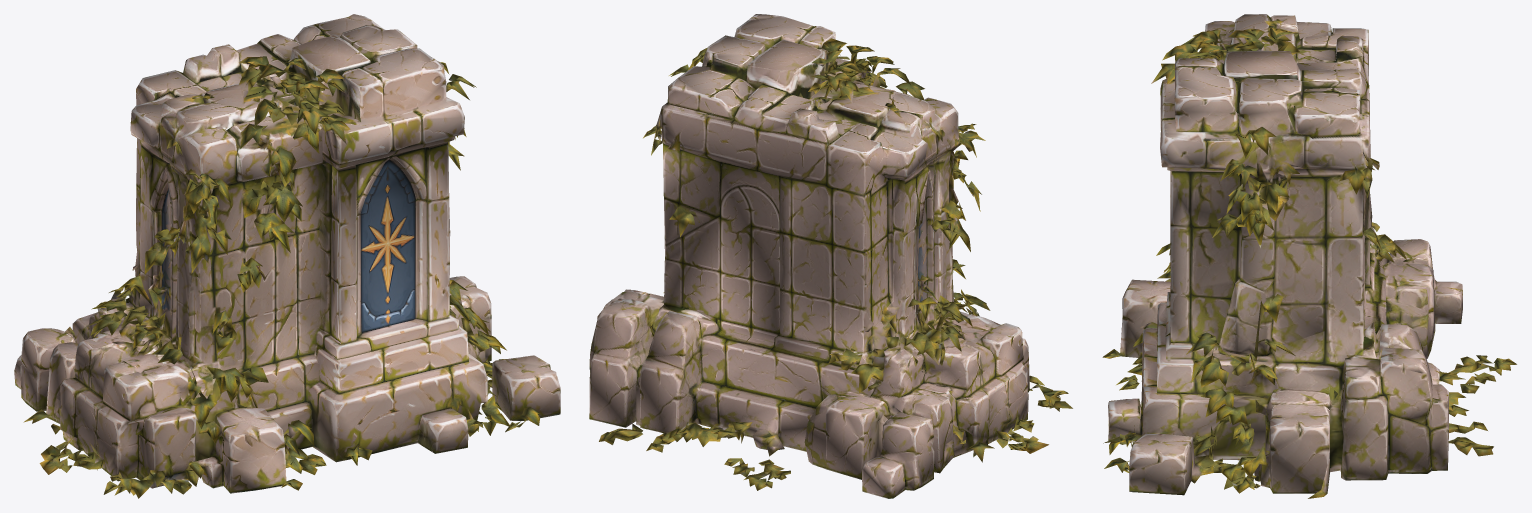
Rendered from SM_Reliquary.fbx.
3 renders of one model, left to right at view 1: azimuth 30°, elevation 25°; view 2: azimuth 150°, elevation 25°; view 3: azimuth 270°, elevation 25°, orthographic. The views are drawn at different scales.
Visible parts, largest first — view 1: Mesh_0; view 2: Mesh_0; view 3: Mesh_0.
Part boxes in pixels (x1,y1,x2,y2): Mesh_0: [14, 14, 560, 498]; Mesh_0: [589, 14, 1072, 498]; Mesh_0: [1102, 14, 1516, 498].
Size of the model in its own units: 177 by 133 by 139.
1 material, 1 textured.
